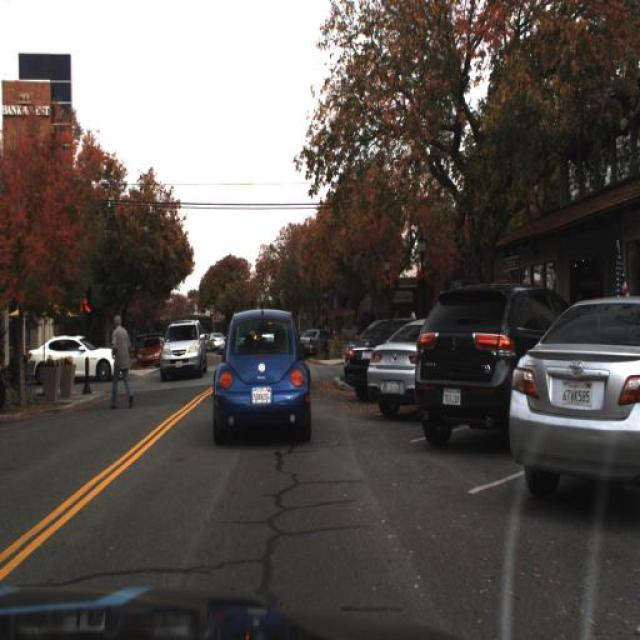car: (503, 294, 638, 510), (416, 283, 572, 452), (208, 305, 317, 453), (340, 308, 416, 401), (369, 314, 430, 416), (28, 326, 128, 384), (156, 316, 208, 380), (138, 328, 168, 367)
trafficLight: (108, 312, 141, 412)
